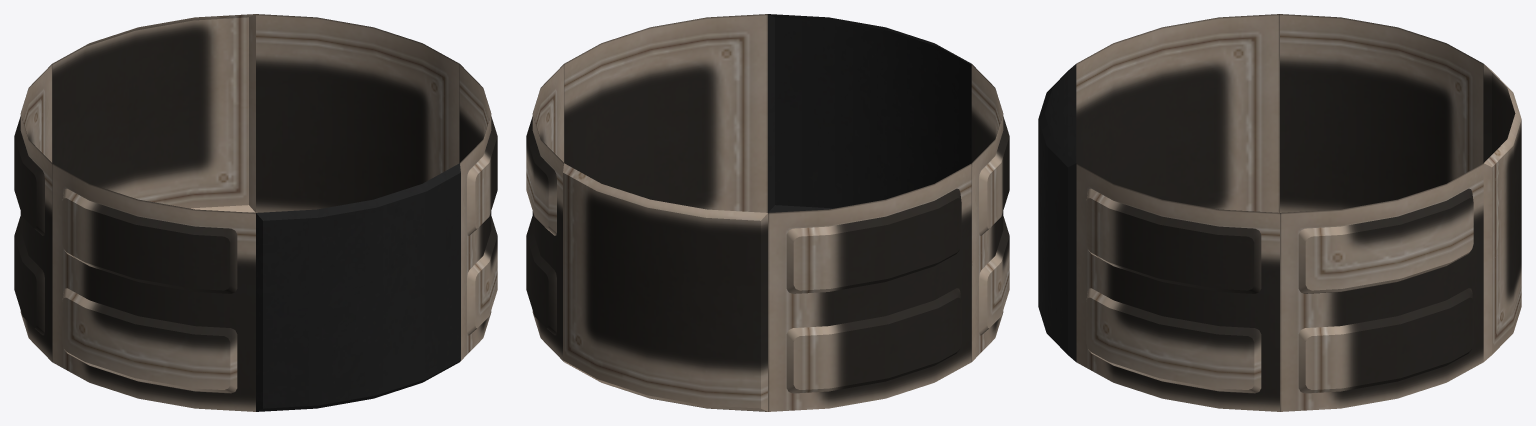
The model's file is cygnus_fuselage_s1p5_3.obj.
3 renders of one model, left to right at view 1: azimuth 30°, elevation 25°; view 2: azimuth 150°, elevation 25°; view 3: azimuth 270°, elevation 25°, orthographic.
Parts seen in each view (by area): view 1: mesh1, radiator1; view 2: mesh1, radiator1; view 3: mesh1, radiator1.
Boxes of the visible parts, x1,y1,x2,y2 form: mesh1: (14, 14, 497, 411); radiator1: (52, 14, 460, 411); mesh1: (526, 14, 1009, 411); radiator1: (563, 14, 971, 411); mesh1: (1076, 14, 1483, 411); radiator1: (1038, 64, 1521, 361).
Size of the model in its own units: 1.9 by 0.875 by 1.93.
1 material, 1 textured.
